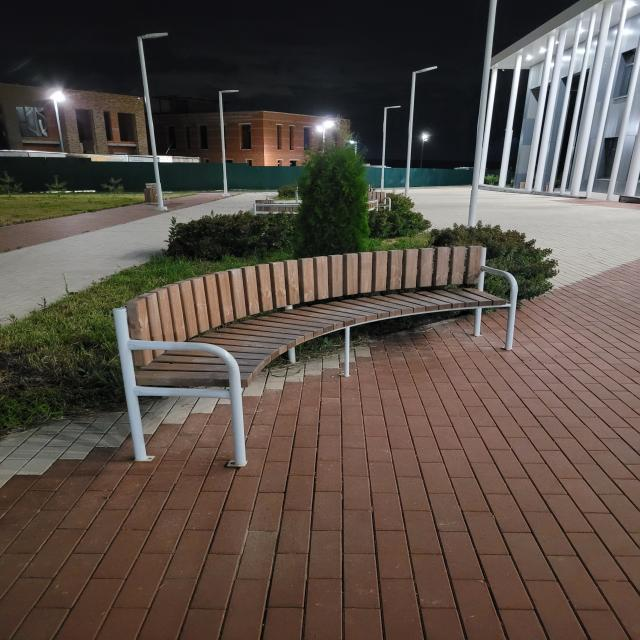Bench: (113, 246, 518, 465)
